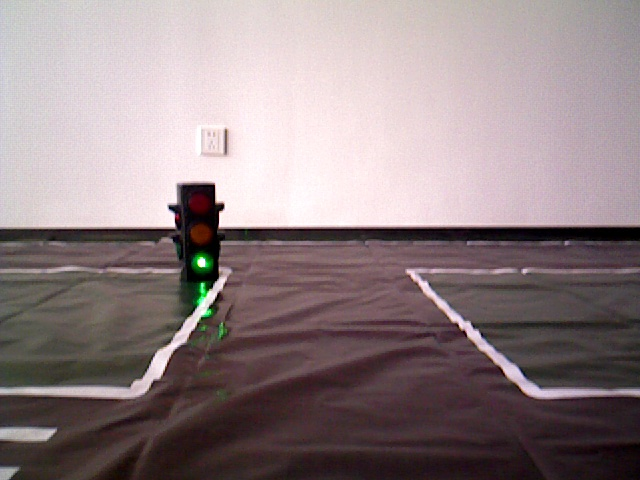green: (175, 190, 218, 271)
